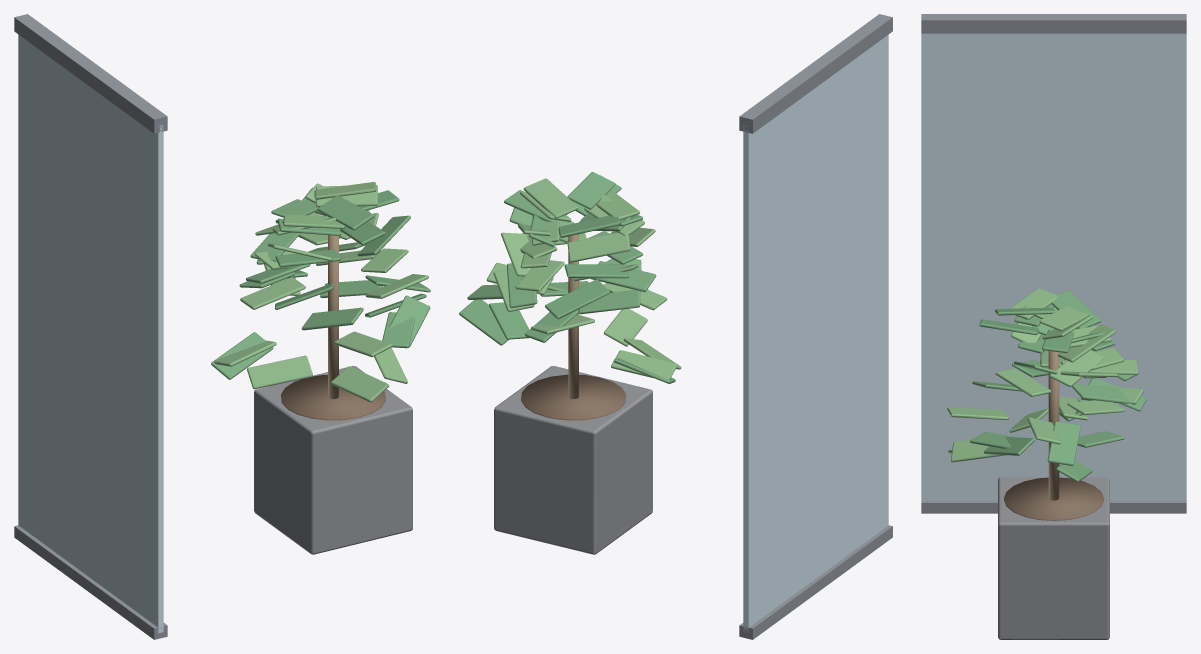
Rendered from oficina_abierta.rincon.fbx.
The picture shows the model from 3 angles, left to right: view 1: azimuth 30°, elevation 25°; view 2: azimuth 150°, elevation 25°; view 3: azimuth 270°, elevation 25°; orthographic projection. The views are drawn at different scales.
Parts seen in each view (by area): view 1: Vidrio, Macetero, Perfil, Tierra, Perfil.001, Hoja.001, Tronco, Hoja.029, Hoja.014, Hoja.041, Hoja.034, Hoja.022 (+14 smaller); view 2: Vidrio, Macetero, Perfil, Tierra, Perfil.001, Hoja.023, Hoja.040, Hoja.005, Hoja.042, Tronco, Hoja.009, Hoja.014 (+10 smaller); view 3: Vidrio, Macetero, Perfil, Tierra, Perfil.001, Tronco, Hoja.016, Hoja.043, Hoja.031, Hoja.032, Hoja.005, Hoja.027 (+16 smaller).
Part boxes in pixels (bbox=[...]): Vidrio: bbox=[18, 34, 163, 633]; Macetero: bbox=[254, 366, 412, 554]; Perfil: bbox=[14, 14, 167, 133]; Tierra: bbox=[281, 375, 385, 420]; Perfil.001: bbox=[14, 525, 167, 639]; Hoja.001: bbox=[247, 355, 312, 389]; Tronco: bbox=[328, 235, 338, 398]; Hoja.029: bbox=[331, 366, 389, 402]; Hoja.014: bbox=[317, 195, 373, 230]; Hoja.041: bbox=[240, 277, 305, 309]; Hoja.034: bbox=[211, 332, 273, 379]; Hoja.022: bbox=[301, 307, 363, 330]; Vidrio: bbox=[743, 34, 888, 632]; Macetero: bbox=[494, 366, 652, 554]; Perfil: bbox=[739, 14, 892, 133]; Tierra: bbox=[521, 374, 626, 420]; Perfil.001: bbox=[739, 525, 892, 639]; Hoja.023: bbox=[567, 232, 630, 262]; Hoja.040: bbox=[545, 279, 610, 319]; Hoja.005: bbox=[523, 178, 578, 218]; Hoja.042: bbox=[459, 299, 508, 345]; Tronco: bbox=[568, 234, 578, 398]; Hoja.009: bbox=[611, 350, 677, 379]; Hoja.014: bbox=[567, 172, 615, 209]; Vidrio: bbox=[921, 33, 1186, 500]; Macetero: bbox=[998, 477, 1109, 639]; Perfil: bbox=[921, 14, 1186, 33]; Tierra: bbox=[1004, 477, 1103, 520]; Perfil.001: bbox=[921, 501, 1186, 513]; Tronco: bbox=[1048, 351, 1059, 500]; Hoja.016: bbox=[1047, 421, 1080, 465]; Hoja.043: bbox=[1049, 350, 1104, 386]; Hoja.031: bbox=[995, 368, 1051, 396]; Hoja.032: bbox=[1071, 383, 1128, 403]; Hoja.005: bbox=[1039, 306, 1088, 331]; Hoja.027: bbox=[1058, 324, 1116, 362].
Size of the model in its own units: 1.3 by 1.84 by 0.9.
